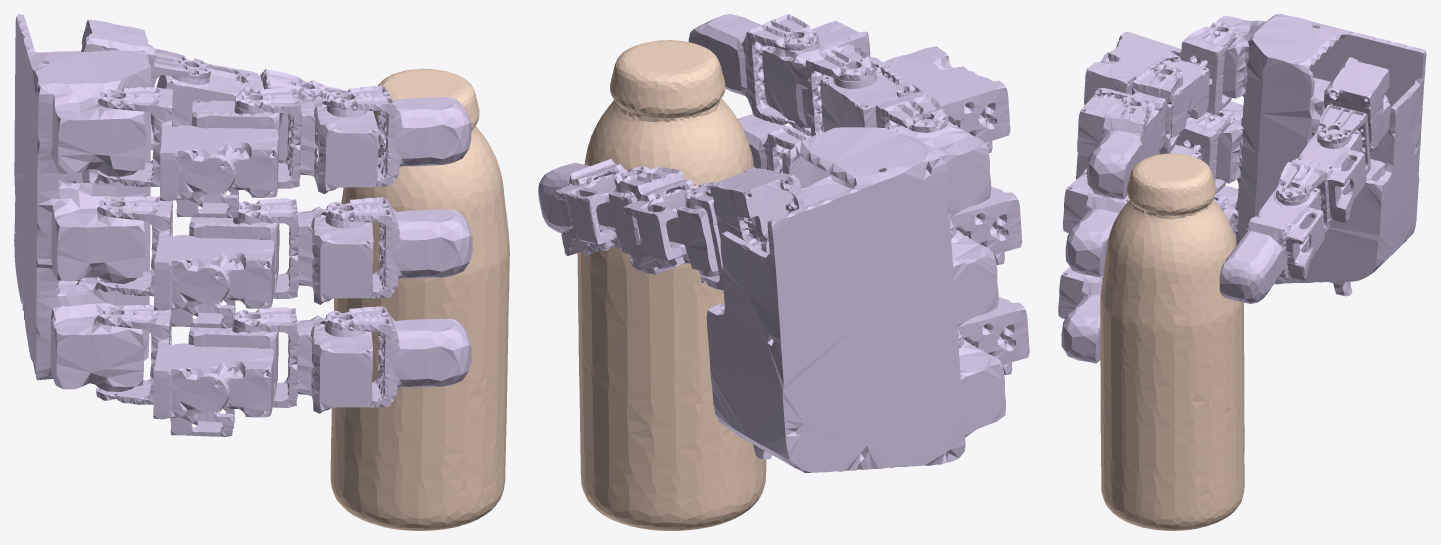
The picture shows the model from 3 angles, left to right: view 1: azimuth 30°, elevation 25°; view 2: azimuth 150°, elevation 25°; view 3: azimuth 270°, elevation 25°; orthographic projection. The views are drawn at different scales.
Visible parts, largest first — view 1: LEAP_hand, world; view 2: LEAP_hand, world; view 3: LEAP_hand, world.
Boxes of the visible parts, x1=… form: LEAP_hand: x1=14, y1=14, x2=472, y2=436; world: x1=330, y1=68, x2=509, y2=530; LEAP_hand: x1=538, y1=14, x2=1029, y2=472; world: x1=577, y1=40, x2=766, y2=530; LEAP_hand: x1=1058, y1=14, x2=1426, y2=363; world: x1=1100, y1=153, x2=1244, y2=530.
Size of the model in its own units: 0.1877 by 0.1949 by 0.175.
